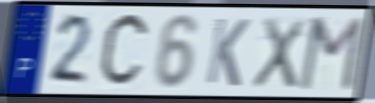2: (45, 12, 96, 90)
6: (151, 11, 201, 93)
C: (96, 9, 152, 93)
K: (203, 15, 252, 89)
M: (295, 15, 366, 94)
X: (249, 15, 307, 92)
